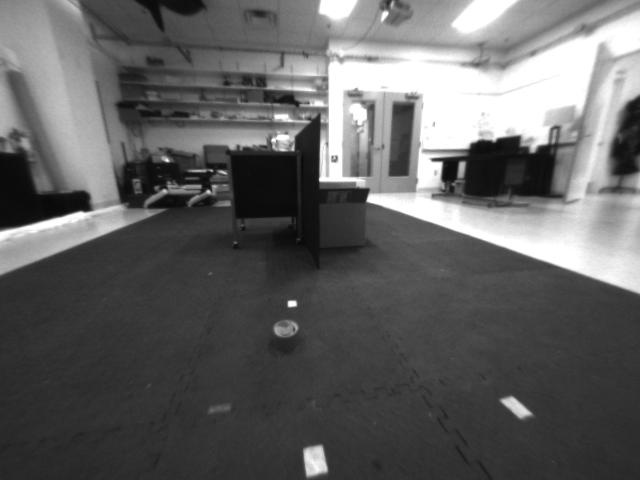dogtoy: (250, 300, 320, 364)
